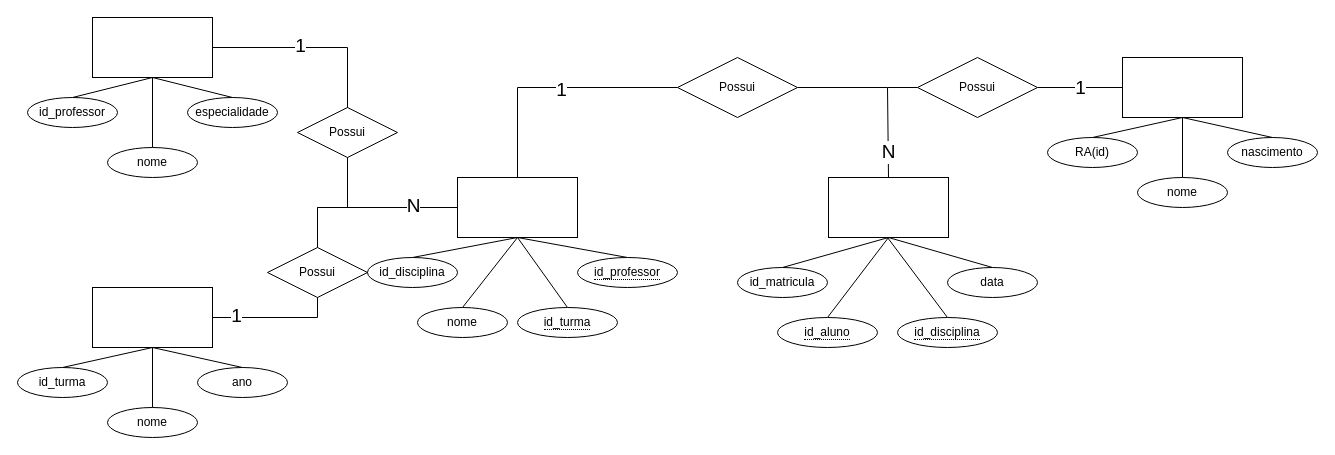
The diagram is 1335 pixels wide and 455 high, and some of its shapes have lost their labels. The box of each missing label's shape, as (x1, y1, x2, y2) in pixels:
Aluno: (1122, 56, 1242, 118)
Disciplina: (456, 176, 578, 238)
Matricula: (828, 176, 948, 238)
professor: (92, 16, 212, 78)
Turma: (92, 286, 212, 348)
